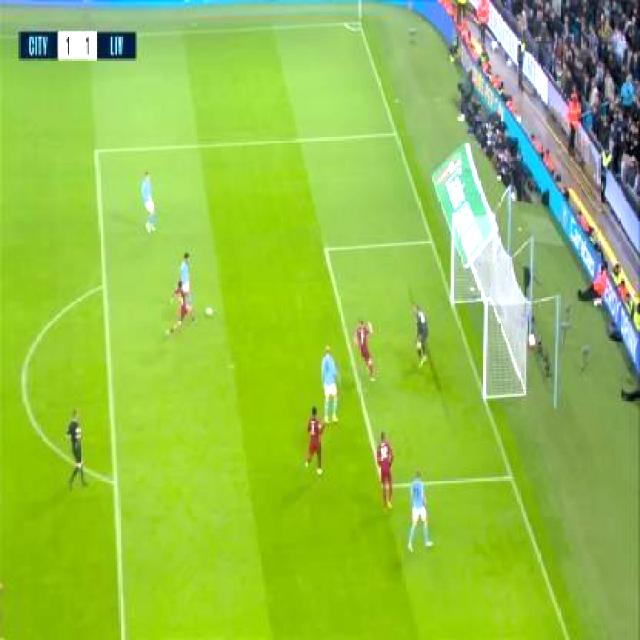bigarea_top_inner: (89, 140, 103, 165)
bigarea_top_outter: (389, 125, 400, 143)
bottom_arc_area_intersection: (109, 470, 120, 492)
corner: (345, 14, 363, 32)
smallarea_bottom_outter: (503, 466, 519, 486)
smallarea_top_inner: (320, 240, 334, 262)
smallarea_top_outter: (424, 232, 438, 252)
top_arc_area_intersection: (97, 275, 109, 297)
